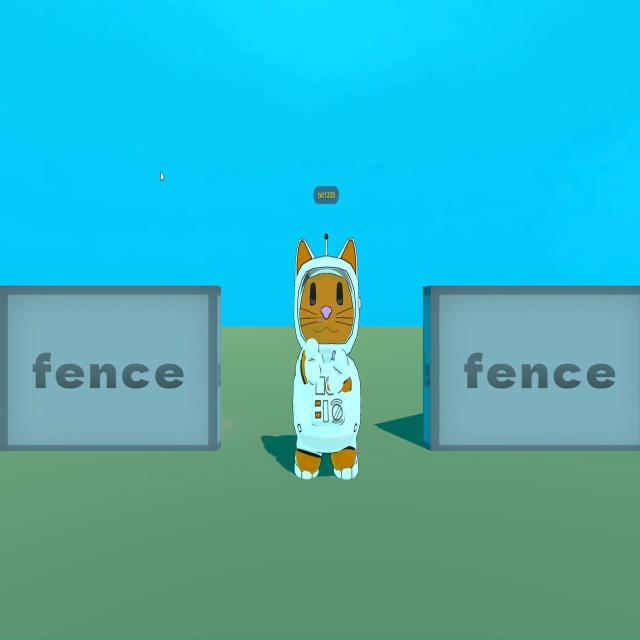human: (292, 232, 362, 488)
